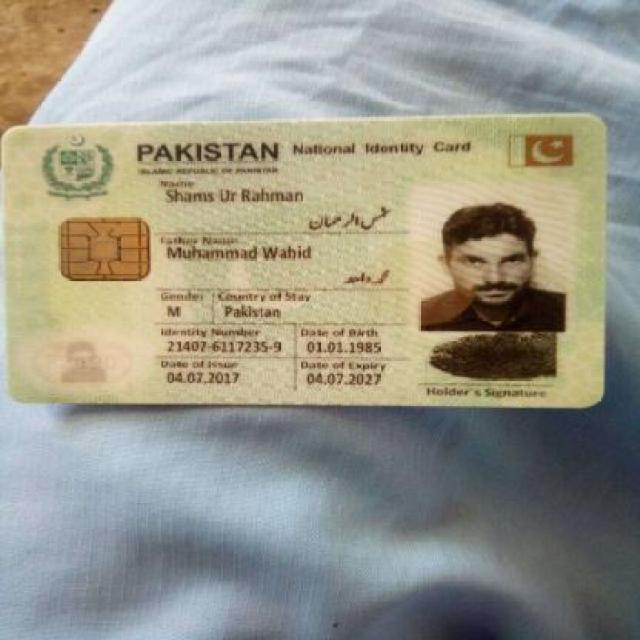Front: (4, 122, 604, 409)
